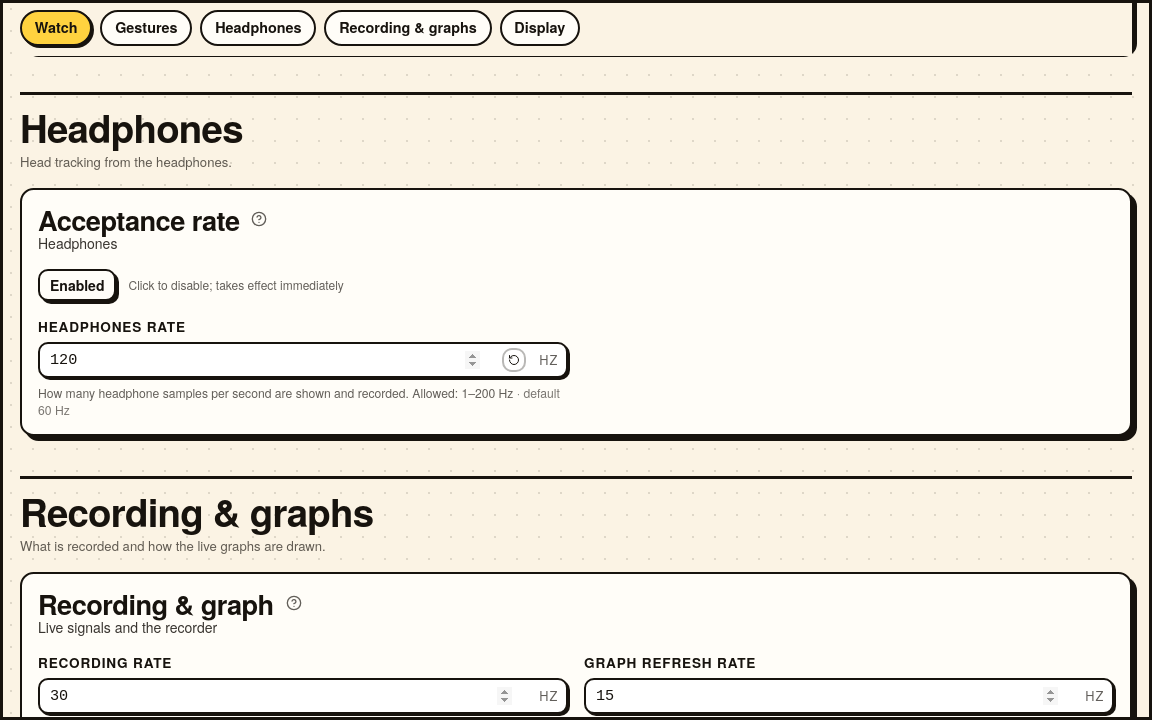
Test: Settings › marks an edited field, and resets a field to its default as a pending edit
(page scrolled)
Expected: the text "Edited" is not shown
Step 1. Click the button named "Reset Headphones rate to its default, 60 Hz" → (514, 360), box [502, 348, 526, 372]
(page scrolled)
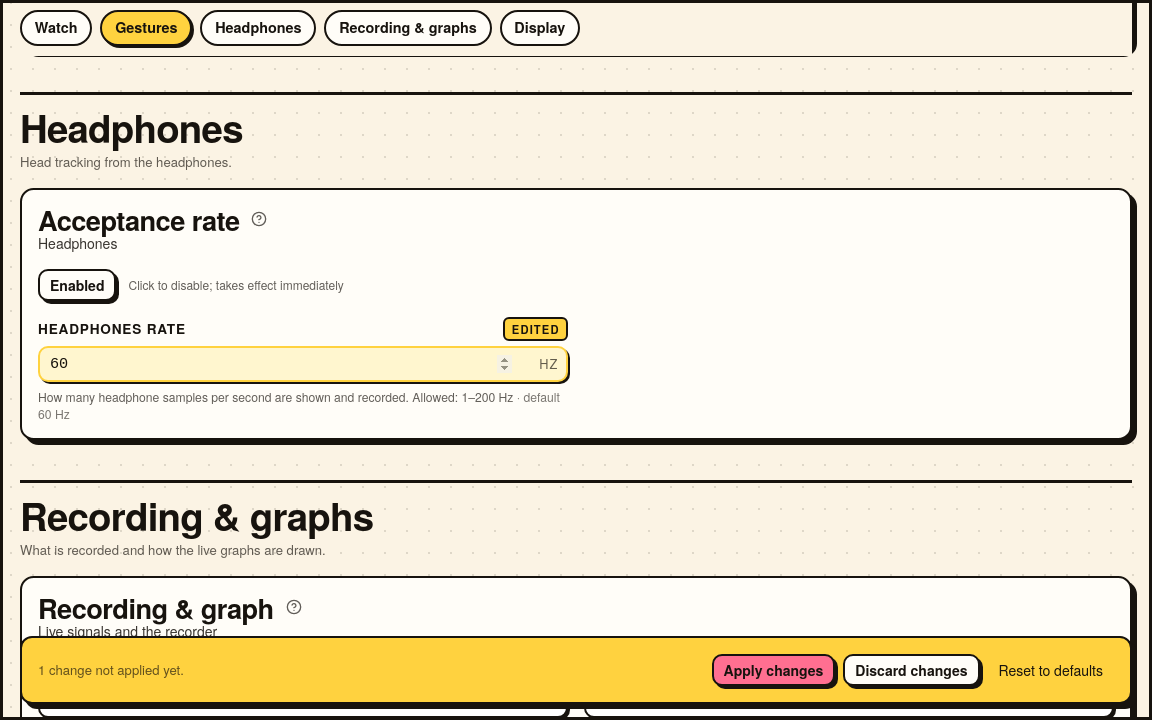
Expected: the number field labelled "Headphones rate" holds "60", [38, 346, 568, 382]
Expected: the text "Edited" is shown, [504, 317, 568, 341]
Expected: the button "Apply changes" is enabled, [712, 654, 835, 686]
